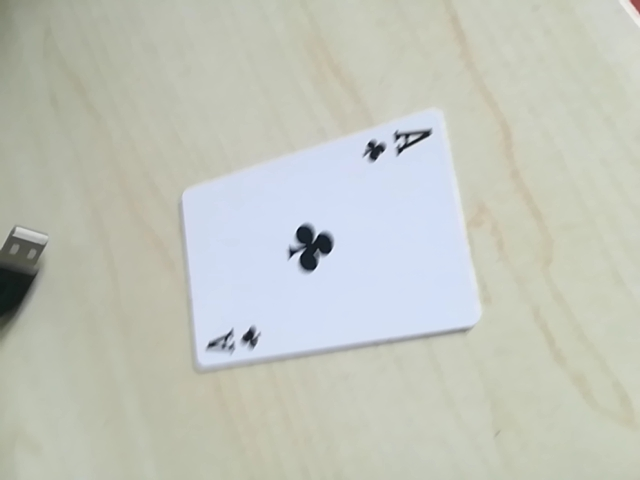mh a: (200, 310, 269, 368), (359, 124, 437, 171)
